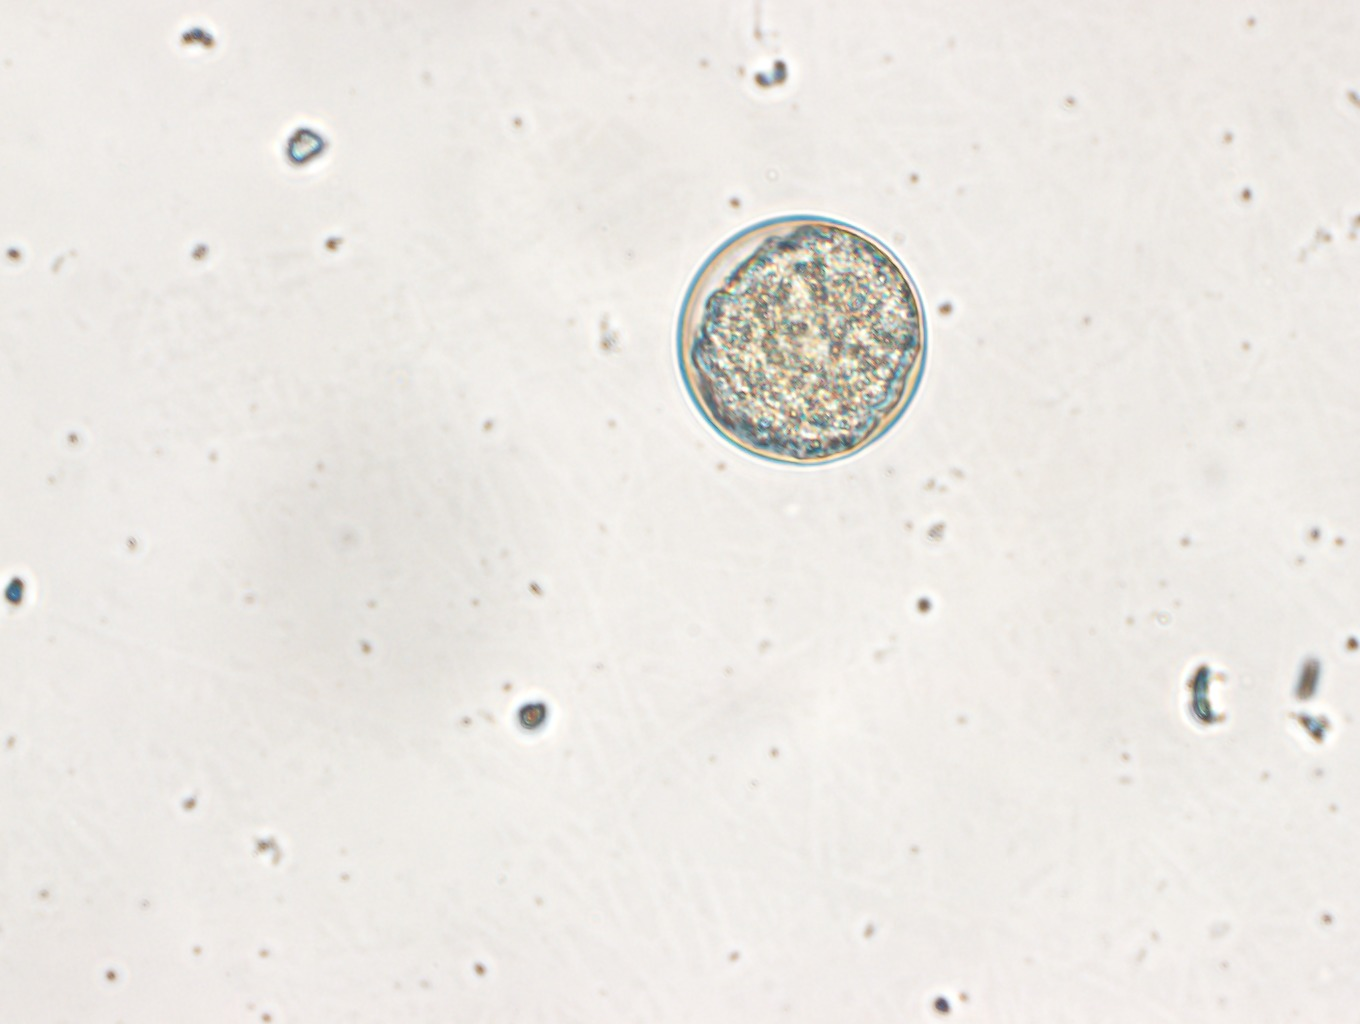coscinodiscus: (667, 210, 933, 470)
